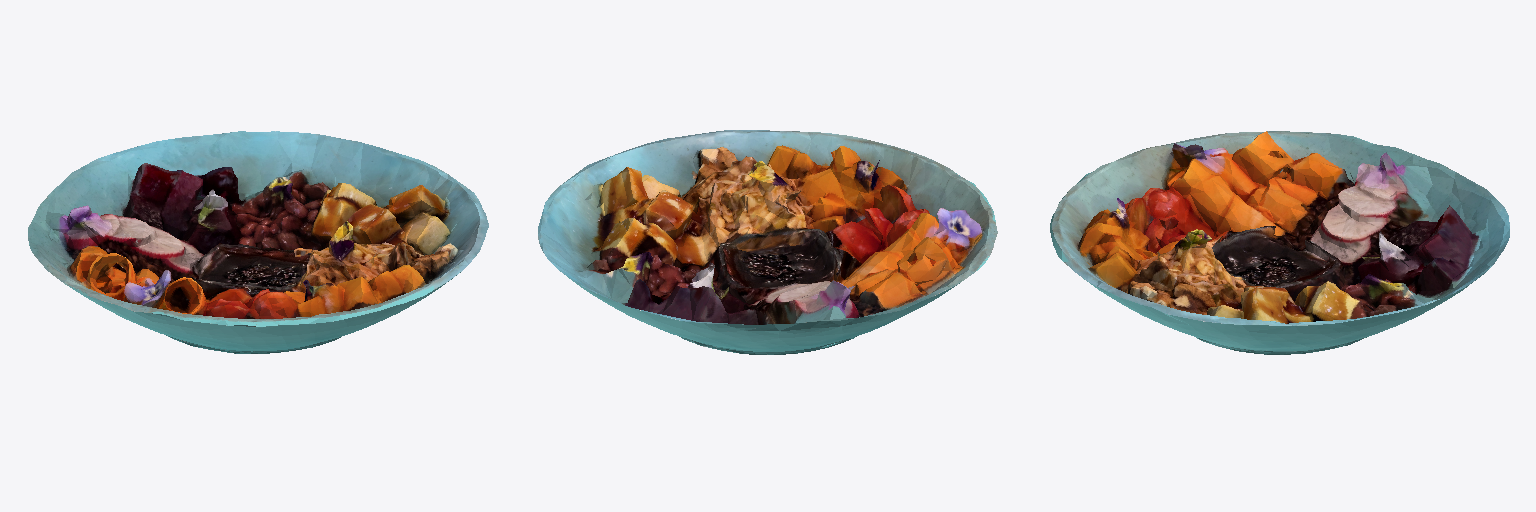
The picture shows the model from 3 angles: view 1: azimuth 30°, elevation 25°; view 2: azimuth 150°, elevation 25°; view 3: azimuth 270°, elevation 25°; orthographic projection.
Parts seen in each view (by area): view 1: PokeBowl; view 2: PokeBowl; view 3: PokeBowl.
Boxes of the visible parts, x1,y1,x2,y2 form: PokeBowl: [28, 131, 488, 353]; PokeBowl: [538, 130, 997, 354]; PokeBowl: [1050, 131, 1509, 354].
Bounding box in the file's own units: 0.2696 × 0.0663 × 0.2688.
1 materials, 1 textured.